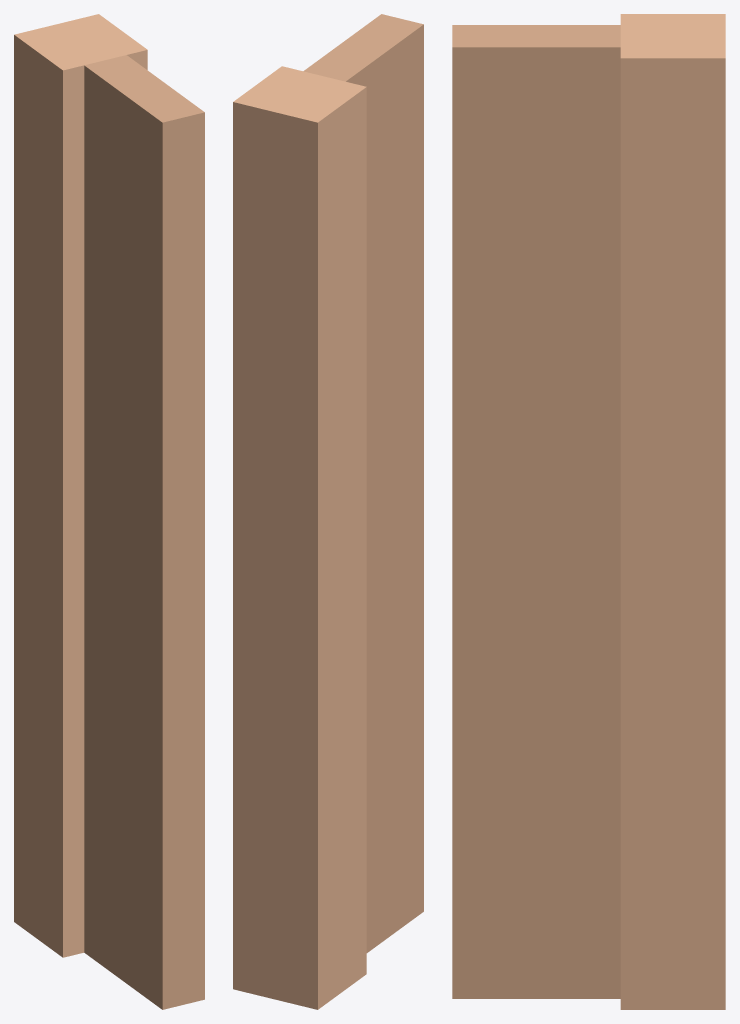
Rendered from wallWoodSide.glb.
3 views of the same model, side by side, from view 1: azimuth 30°, elevation 25°; view 2: azimuth 150°, elevation 25°; view 3: azimuth 270°, elevation 25° (orthographic). The views are drawn at different scales.
Parts seen in each view (by area): view 1: wallWoodSide; view 2: wallWoodSide; view 3: wallWoodSide.
Boxes of the visible parts, <box> form: wallWoodSide: <box>14,14,204,1009</box>; wallWoodSide: <box>233,14,423,1009</box>; wallWoodSide: <box>452,14,725,1009</box>.
Bounding box in the file's own units: 0.1 × 1 × 0.26.
